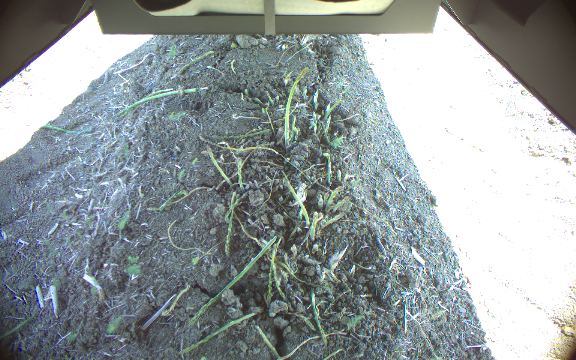aspa: (284, 67, 311, 147), (203, 144, 232, 188), (308, 211, 318, 240), (236, 159, 244, 187)
